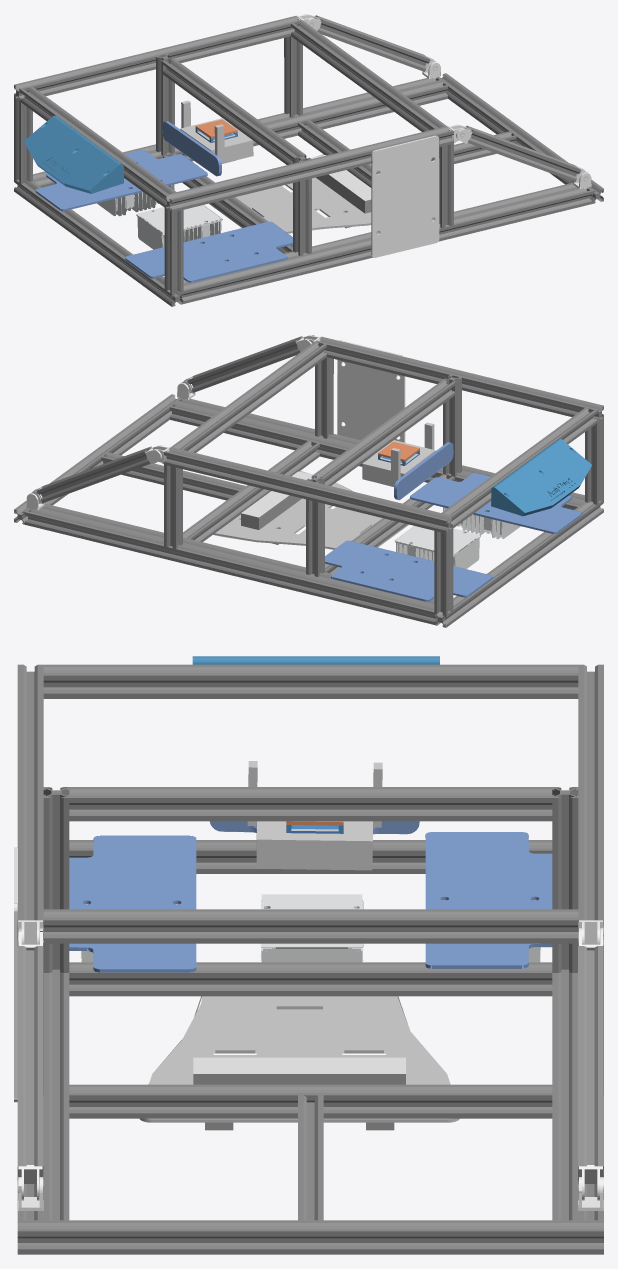
File: chasis.dae
The picture shows the model from 3 angles, top to bottom: view 1: azimuth 30°, elevation 25°; view 2: azimuth 150°, elevation 25°; view 3: azimuth 270°, elevation 25°; orthographic projection. The views are drawn at different scales.
Parts seen in each view (by area): view 1: chasis; view 2: chasis; view 3: chasis.
Part boxes in pixels (bbox=[...]): chasis: bbox=[14, 14, 603, 306]; chasis: bbox=[14, 335, 603, 627]; chasis: bbox=[14, 656, 603, 1254].
Bounding box in the file's own units: 0.7911 × 0.458 × 0.1946.
